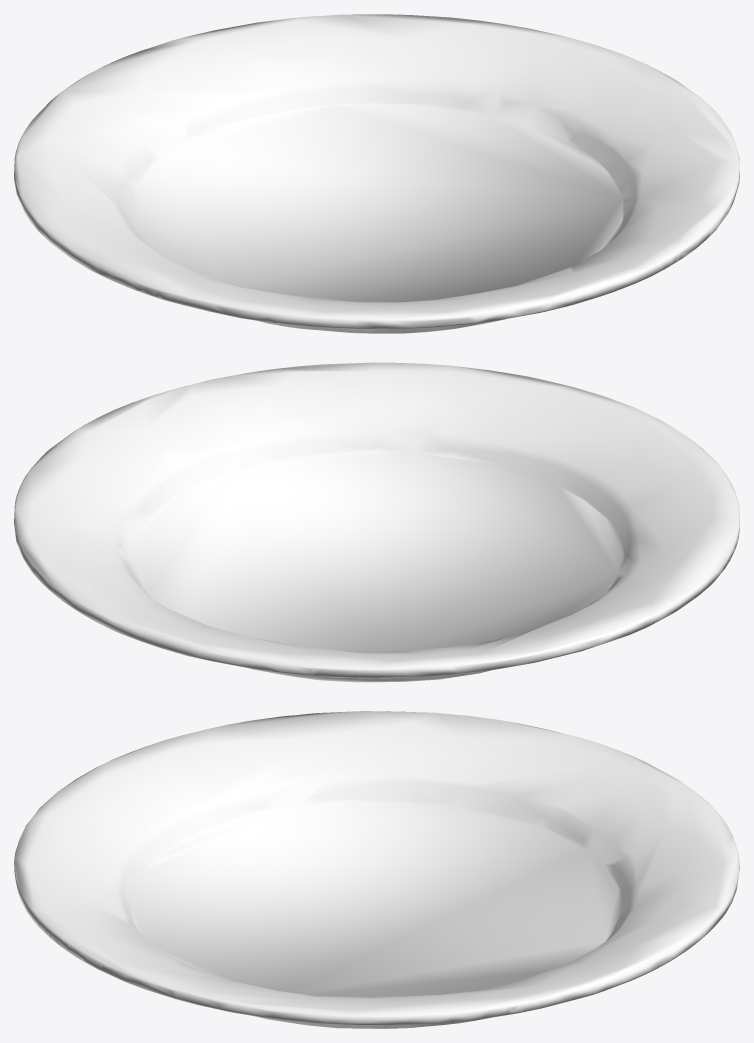
The model's file is plate.glb.
3 renders of one model, top to bottom at view 1: azimuth 30°, elevation 25°; view 2: azimuth 150°, elevation 25°; view 3: azimuth 270°, elevation 25°, orthographic.
Visible parts, largest first — view 1: mesh; view 2: mesh; view 3: mesh.
Part boxes in pixels (box(x1,y1,x2,y2)): mesh: box(14, 14, 739, 333); mesh: box(14, 362, 739, 682); mesh: box(14, 711, 739, 1028).
Size of the model in its own units: 2 by 0.1831 by 2.
Materials: 1 (1 with a texture image).
